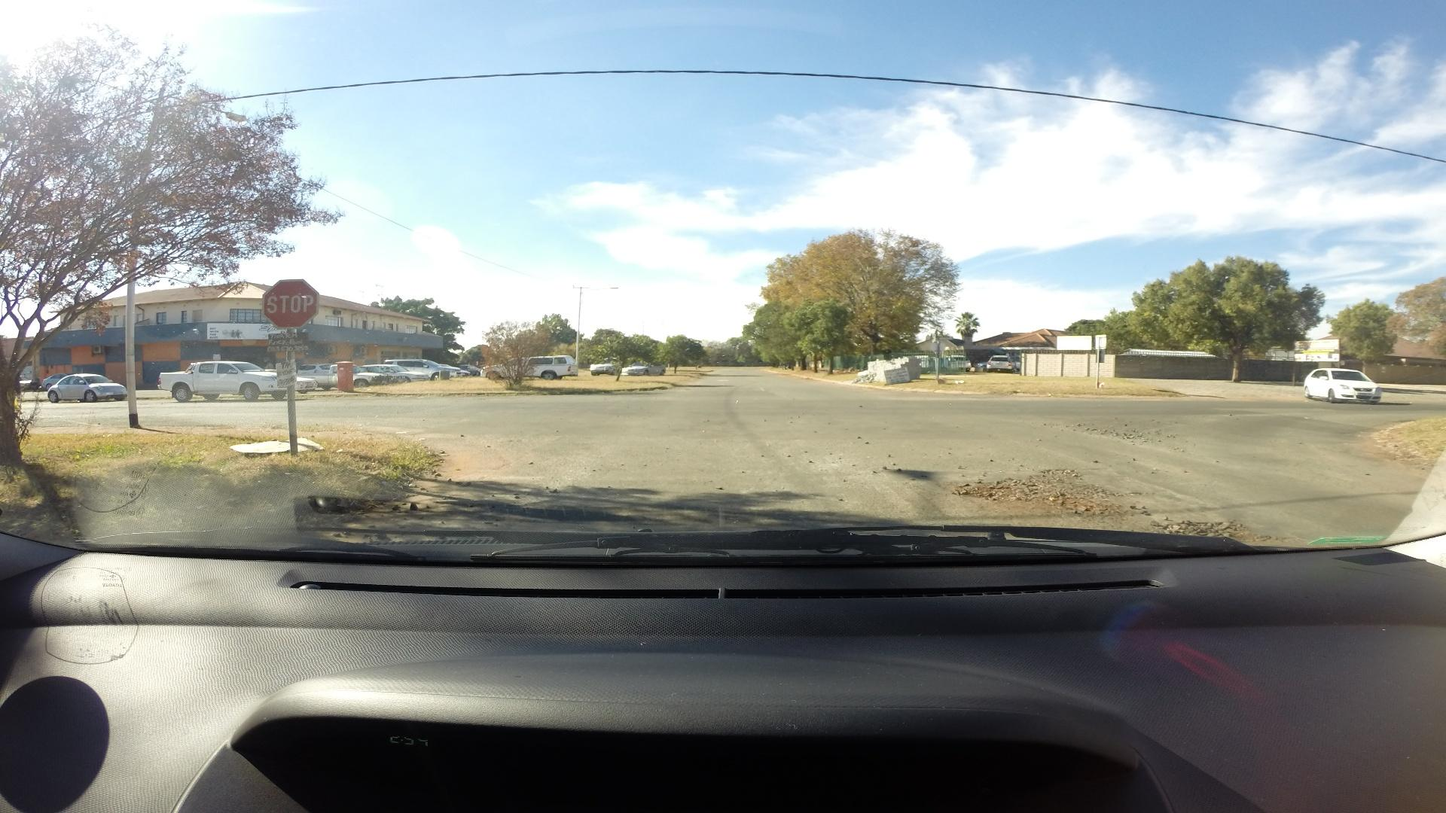pothole: (959, 465, 1142, 520), (1157, 521, 1296, 546)
